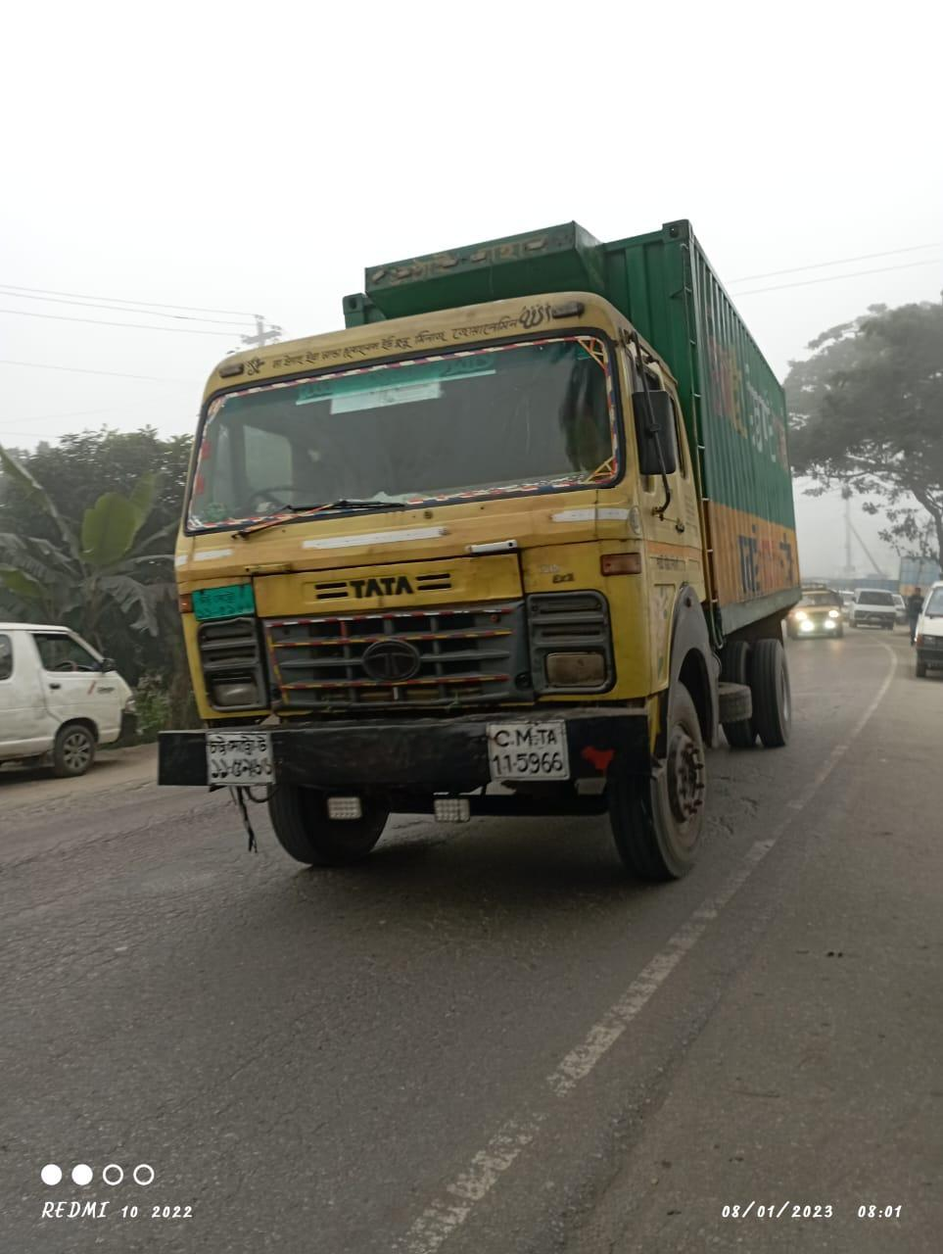Car: (1, 606, 143, 781), (850, 577, 901, 636)
Truck: (135, 199, 804, 870), (787, 579, 846, 658)
